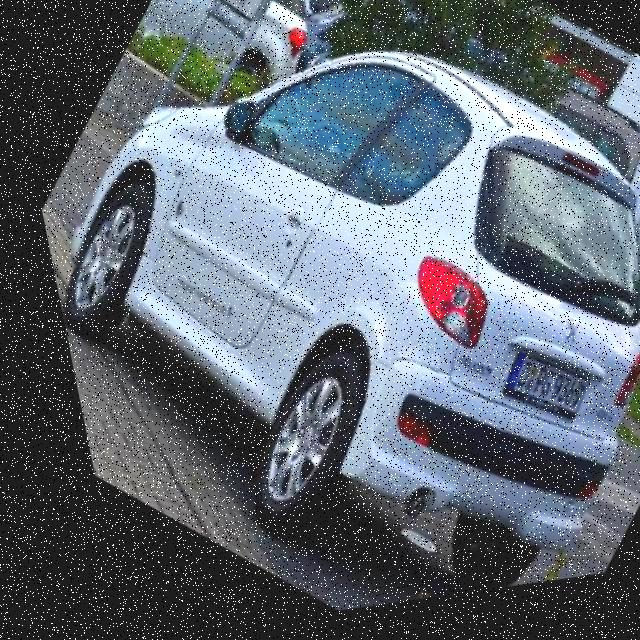license_plate: (470, 347, 584, 452)
